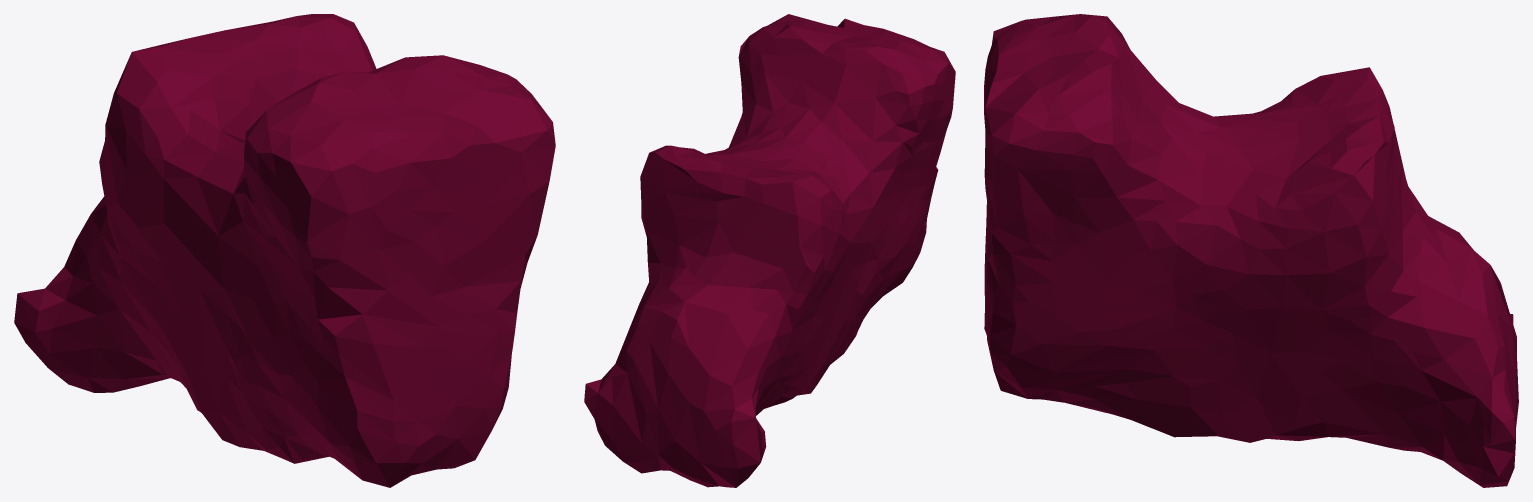
File: 98-14M-area 14 of cortex, medial part-('0.4980', '0.0000', '0.2078').obj
The picture shows the model from 3 angles, left to right: view 1: azimuth 30°, elevation 25°; view 2: azimuth 150°, elevation 25°; view 3: azimuth 270°, elevation 25°; orthographic projection. The views are drawn at different scales.
Bounding box in the file's own units: 38.47 × 65.09 × 74.58.
